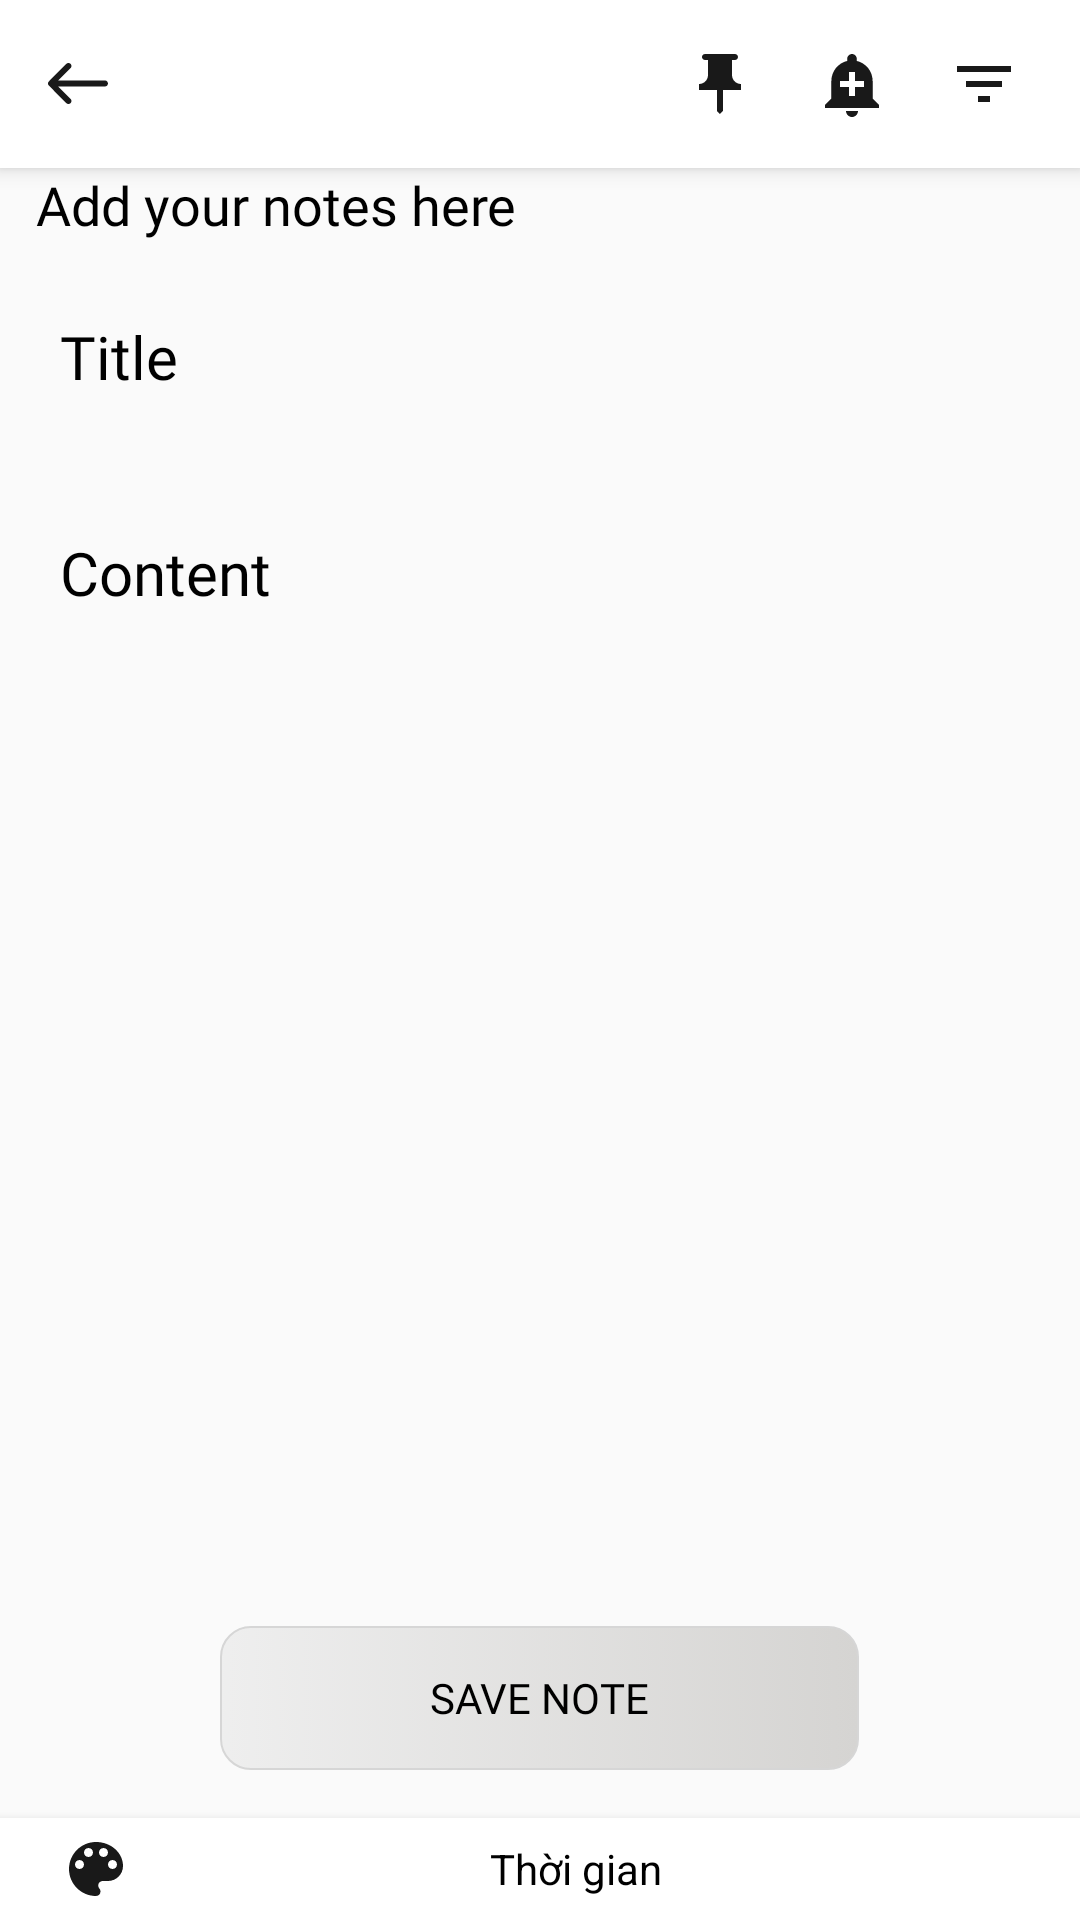

Icon bounding boxes for this 1080 x 1920 phone screenshot, format box(x1, y1, x2, y2):
add alert: box(825, 54, 879, 117)
back arrow: box(48, 63, 108, 104)
pin: box(699, 54, 741, 114)
